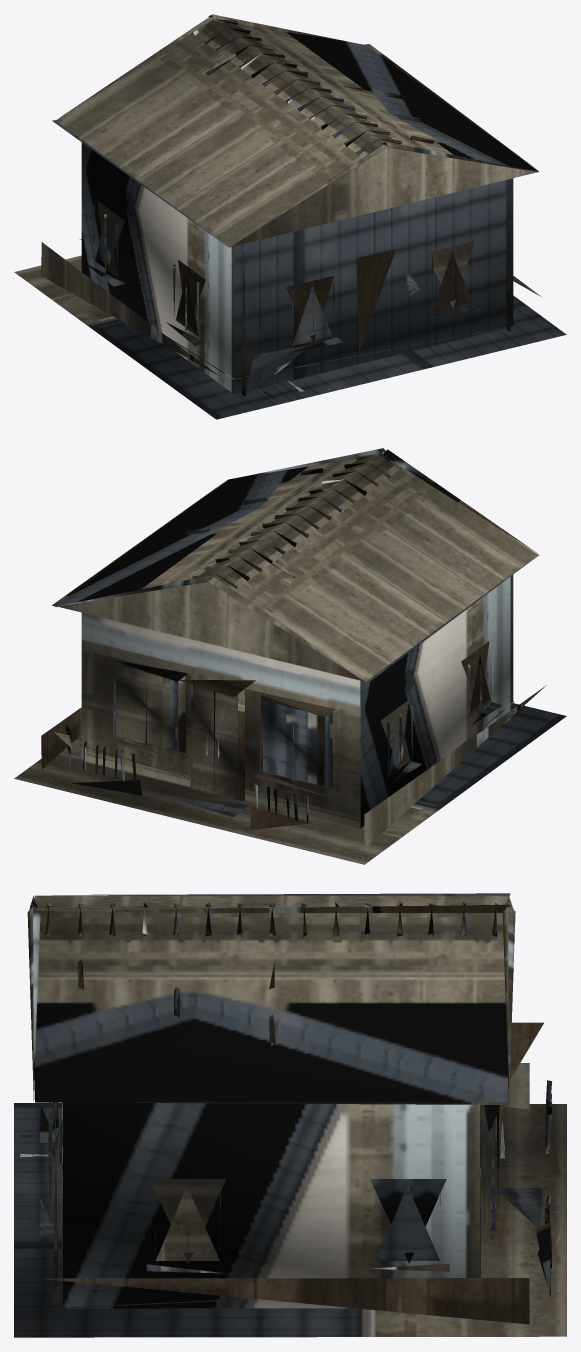
Rendered from residential_013.lod2.obj.
3 views of the same model, one above another, from view 1: azimuth 30°, elevation 25°; view 2: azimuth 150°, elevation 25°; view 3: azimuth 270°, elevation 25° (orthographic). The views are drawn at different scales.
Visible parts, largest first — view 1: residential_013; view 2: residential_013; view 3: residential_013.
Boxes of the visible parts, x1,y1,x2,y2 form: residential_013: (14, 14, 566, 419); residential_013: (14, 448, 566, 864); residential_013: (14, 893, 566, 1337).
Bounding box in the file's own units: 7.25 × 4.56 × 7.25.
1 material, 1 textured.
